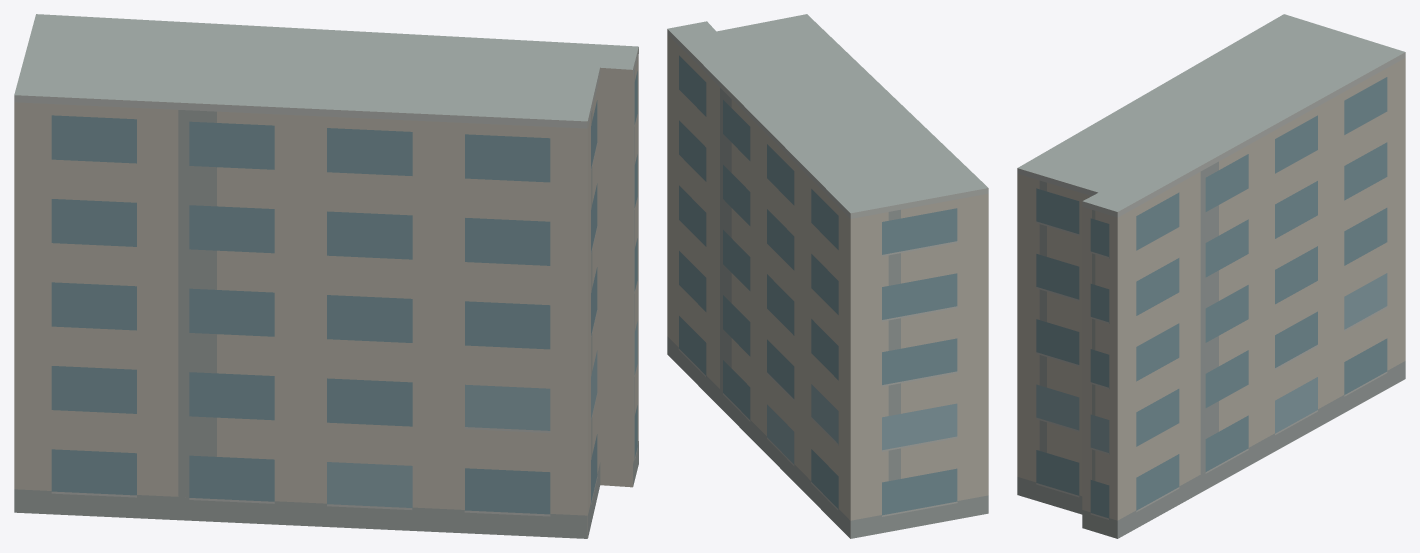
File: survey-upis-32630897.glb
3 views of the same model, side by side, from view 1: azimuth 30°, elevation 25°; view 2: azimuth 150°, elevation 25°; view 3: azimuth 270°, elevation 25° (orthographic). The views are drawn at different scales.
Visible parts, largest first — view 1: survey-upis-32630897.tmp; view 2: survey-upis-32630897.tmp; view 3: survey-upis-32630897.tmp.
Part boxes in pixels (bbox=[...]): survey-upis-32630897.tmp: bbox=[14, 14, 638, 538]; survey-upis-32630897.tmp: bbox=[667, 14, 988, 538]; survey-upis-32630897.tmp: bbox=[1017, 14, 1405, 538].
Size of the model in its own units: 18.46 by 14.2 by 15.3.
